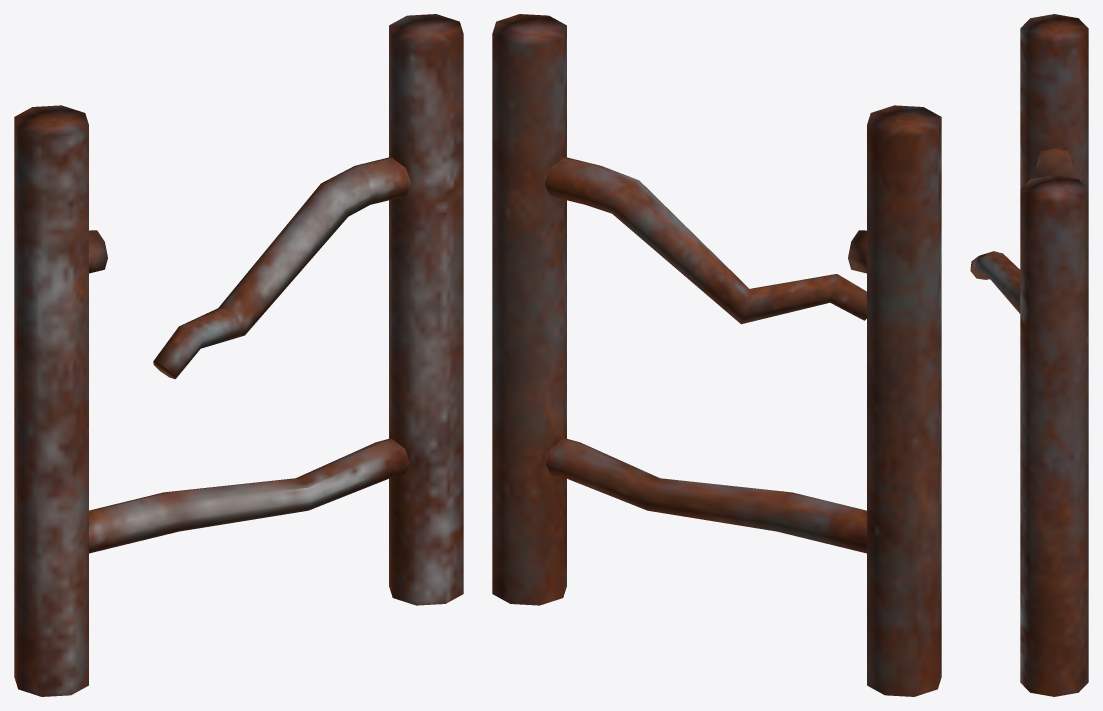
The model's file is LadderIronRust02.fbx.
The picture shows the model from 3 angles, left to right: view 1: azimuth 30°, elevation 25°; view 2: azimuth 150°, elevation 25°; view 3: azimuth 270°, elevation 25°; orthographic projection. The views are drawn at different scales.
Visible parts, largest first — view 1: polySurface5, polySurface1, polySurface6, polySurface3; view 2: polySurface5, polySurface1, polySurface3, polySurface6; view 3: polySurface1, polySurface5, polySurface3, polySurface7.
Boxes of the visible parts, <box> form: polySurface5: <box>14,105,88,696</box>; polySurface1: <box>389,14,463,605</box>; polySurface6: <box>89,438,410,553</box>; polySurface3: <box>153,157,411,379</box>; polySurface5: <box>867,105,941,696</box>; polySurface1: <box>492,14,566,605</box>; polySurface3: <box>544,157,866,324</box>; polySurface6: <box>545,438,866,553</box>; polySurface1: <box>1020,175,1088,696</box>; polySurface5: <box>1020,14,1088,188</box>; polySurface3: <box>970,251,1020,313</box>; polySurface7: <box>1035,148,1073,177</box>.
Size of the model in its own units: 0.8255 by 1 by 0.2171.
